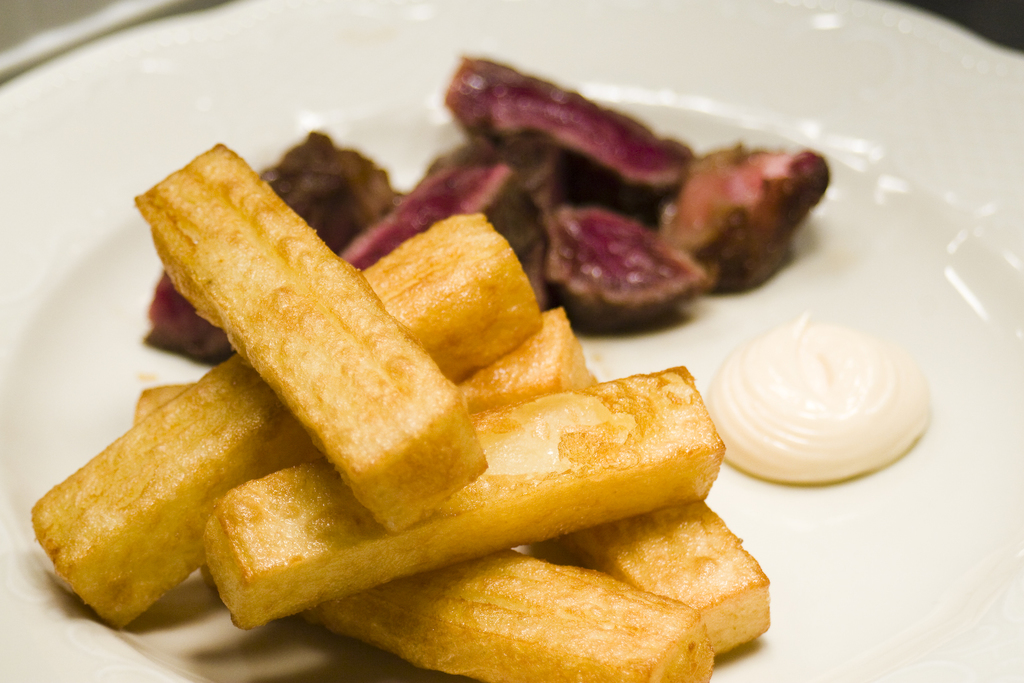French fries: (23, 133, 766, 682)
